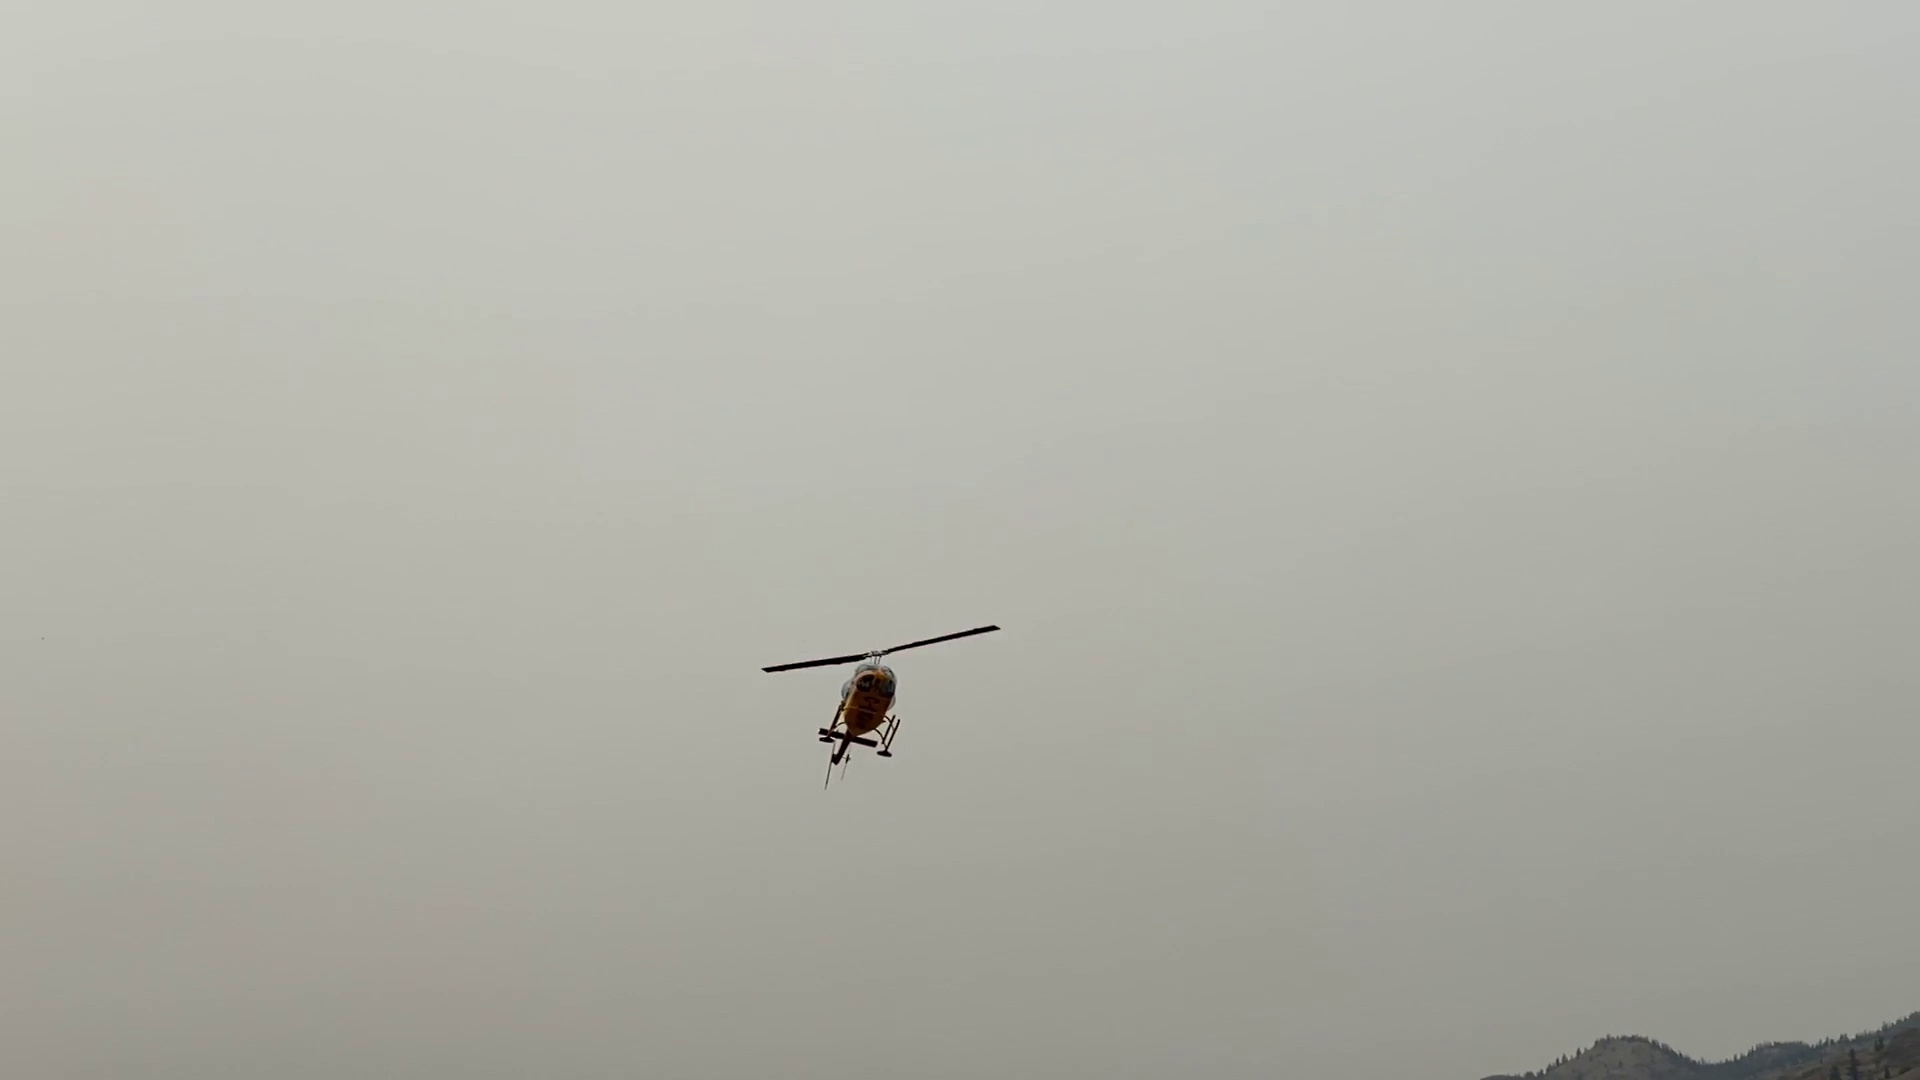heli: (761, 622, 1000, 760)
